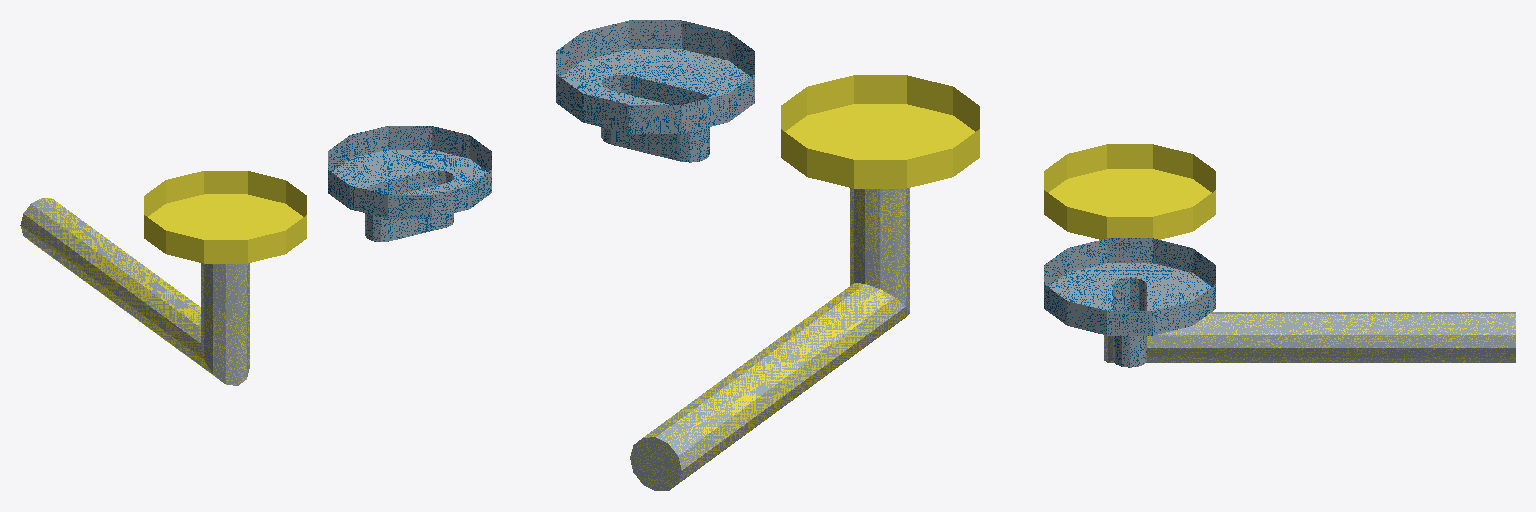
robot.urdf — right-pull-door:
<?xml version="1.0" ?>
<robot name="right-pull-door">
	<link name="base"/>
	<link name="link_0">
		<visual name="out-frame">
			<origin xyz="0 0 0"/>
			<geometry>
				<mesh filename="texture_dae/frame.dae" scale="1.0123574586047206 1.0123574586047206 1.0123574586047206"/>
			</geometry>
		</visual>
		<collision>
			<origin xyz="0 0 0"/>
			<geometry>
				<mesh filename="texture_dae/frame.dae" scale="1.0123574586047206 1.0123574586047206 1.0123574586047206"/>
			</geometry>
		</collision>
	</link>
	<joint name="joint_0" type="fixed">
		<origin rpy="1.570796326794897 0 -1.570796326794897" xyz="0 0 0"/>
		<child link="link_0"/>
		<parent link="base"/>
	</joint>
	<link name="link_1">
		<visual name="surf-board">
			<origin xyz="0.3356916493349545 -0.8290365956526156 0"/>
			<geometry>
				<mesh filename="texture_dae/board.dae" scale="1.0123574586047206 1.0123574586047206 1.0123574586047206"/>
			</geometry>
		</visual>
		<collision>
			<origin xyz="0.3356916493349545 -0.8290365956526156 0"/>
			<geometry>
				<mesh filename="texture_dae/board.dae" scale="1.0123574586047206 1.0123574586047206 1.0123574586047206"/>
			</geometry>
		</collision>
	</link>
	<joint name="joint_1" type="revolute">
		<origin xyz="-0.3356916493349545 0.8290365956526156 0"/>
		<axis xyz="0 -1 0"/>
		<child link="link_1"/>
		<parent link="link_0"/>
		<limit lower="0" upper="1.5079644737231006"/>
	</joint>
	<link name="link_2">
		<visual name="handle">
			<origin xyz="0 0 0"/>
			<geometry>
				<mesh filename="texture_dae/9960035-handle-right.dae" scale="1.1521591651295857 1.1521591651295857 1.1521591651295857"/>
			</geometry>
		</visual>
		<collision>
			<origin xyz="0 0 0"/>
			<geometry>
				<mesh filename="texture_dae/9960035-handle-right.dae" scale="1.1521591651295857 1.1521591651295857 1.1521591651295857"/>
			</geometry>
		</collision>
	</link>
	<joint name="joint_2" type="revolute">
		<origin xyz="0 0 0"/>
		<child link="link_2"/>
		<parent link="link_3"/>
		<axis xyz="0 0 1"/>
		<limit lower="0" upper="1.5079644737231006"/>
	</joint>
	<link name="link_3">
		<visual name="lock">
			<origin xyz="0 0 0"/>
			<geometry>
				<mesh filename="texture_dae/9960035-lock-right.dae" scale="1.1521591651295857 1.1521591651295857 1.1521591651295857"/>
			</geometry>
		</visual>
		<collision>
			<origin xyz="0 0 0"/>
			<geometry>
				<mesh filename="texture_dae/9960035-lock-right.dae" scale="1.1521591651295857 1.1521591651295857 1.1521591651295857"/>
			</geometry>
		</collision>
	</link>
	<joint name="joint_3" type="fixed">
		<origin xyz="0.6017174544127666 -0.9253223116092133 0.02381586040493419"/>
		<child link="link_3"/>
		<parent link="link_1"/>
	</joint>
</robot>

--- Render facts (derived) ---
Views: 3 orthographic renders of the robot side by side, from view 1: azimuth 30°, elevation 25°; view 2: azimuth 150°, elevation 25°; view 3: azimuth 270°, elevation 25°.
Robot: right-pull-door — 5 links, 4 joints (2 revolute, 2 fixed); root link base; default pose: every joint at zero.
Visible links, largest first — view 1: link_2, link_3; view 2: link_2, link_3; view 3: link_2, link_3.
Boxes of the visible links, x1,y1,x2,y2 form: link_2: (20, 171, 306, 385); link_3: (328, 126, 491, 241); link_2: (630, 75, 979, 490); link_3: (556, 20, 754, 162); link_2: (1044, 144, 1515, 362); link_3: (1044, 238, 1215, 367).
Size in the robot's own frame: 0.1325 by 0.1584 by 0.0668 metres.
Meshes: 4 distinct files referenced, 2 mesh visuals loaded (2 Collada DAE); not drawn: 2 (reference not matched to a file when rendering).
